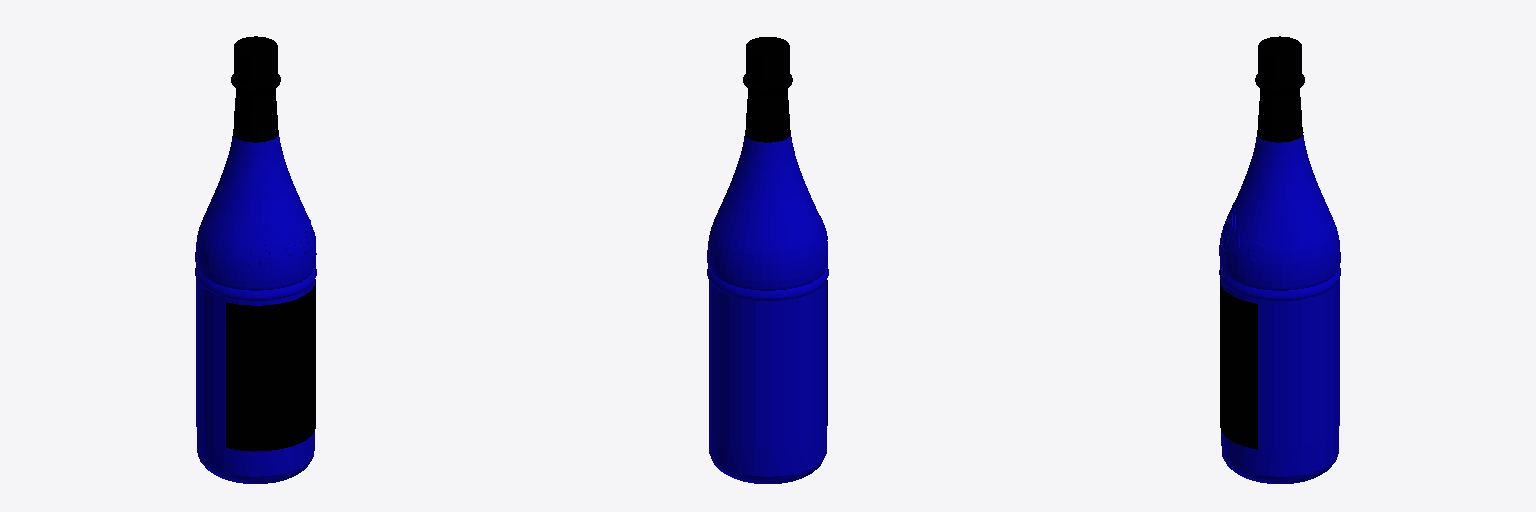
The model's file is bottle_textures.obj.
3 renders of one model, left to right at view 1: azimuth 30°, elevation 25°; view 2: azimuth 150°, elevation 25°; view 3: azimuth 270°, elevation 25°, orthographic.
Visible parts, largest first — view 1: bottle_plastic_barline_joined, bottle_plastic_barline_sticker_bottle_plastic_barline_joined.00, bouchon_bottle_plastic_barline_joined.001; view 2: bottle_plastic_barline_joined, bouchon_bottle_plastic_barline_joined.001; view 3: bottle_plastic_barline_joined, bottle_plastic_barline_sticker_bottle_plastic_barline_joined.00, bouchon_bottle_plastic_barline_joined.001.
Boxes of the visible parts, <box> form: bottle_plastic_barline_joined: <box>195,135,316,483</box>; bottle_plastic_barline_sticker_bottle_plastic_barline_joined.00: <box>226,279,315,451</box>; bouchon_bottle_plastic_barline_joined.001: <box>231,36,280,142</box>; bottle_plastic_barline_joined: <box>707,135,828,483</box>; bouchon_bottle_plastic_barline_joined.001: <box>743,37,792,142</box>; bottle_plastic_barline_joined: <box>1219,135,1340,483</box>; bottle_plastic_barline_sticker_bottle_plastic_barline_joined.00: <box>1220,279,1257,449</box>; bouchon_bottle_plastic_barline_joined.001: <box>1255,36,1304,142</box>.
Bounding box in the file's own units: 110 × 420 × 110.